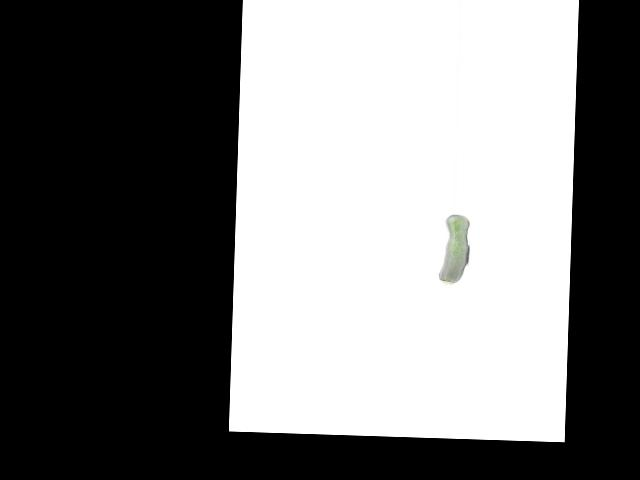cucumber: (438, 214, 470, 285)
